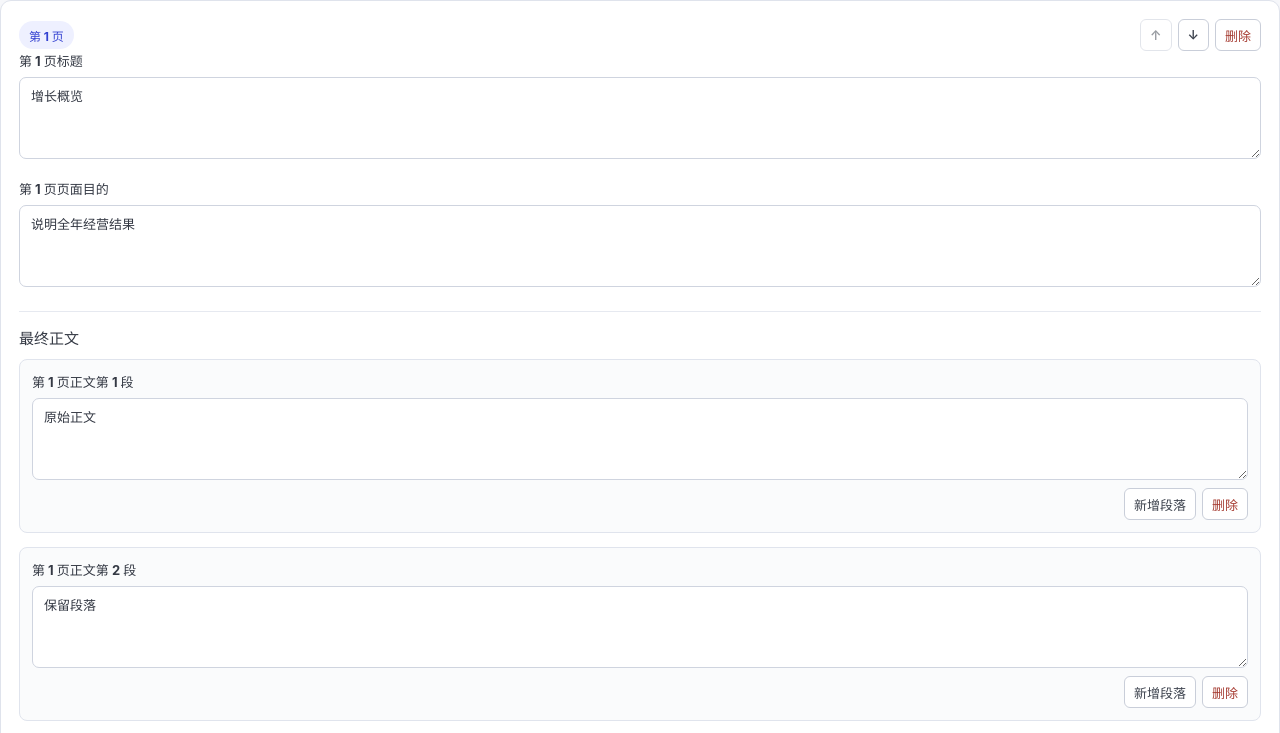
DetailEditor page management and index › moves complete ID-associated pages, keeps focus with the moved page, and confirms page deletion
What coordinates should you click on to do the following:
click the button named "下移第 1 页"
I would click on:
 (1193, 35)
Its box is [1178,19,1209,51].
(page scrolled)
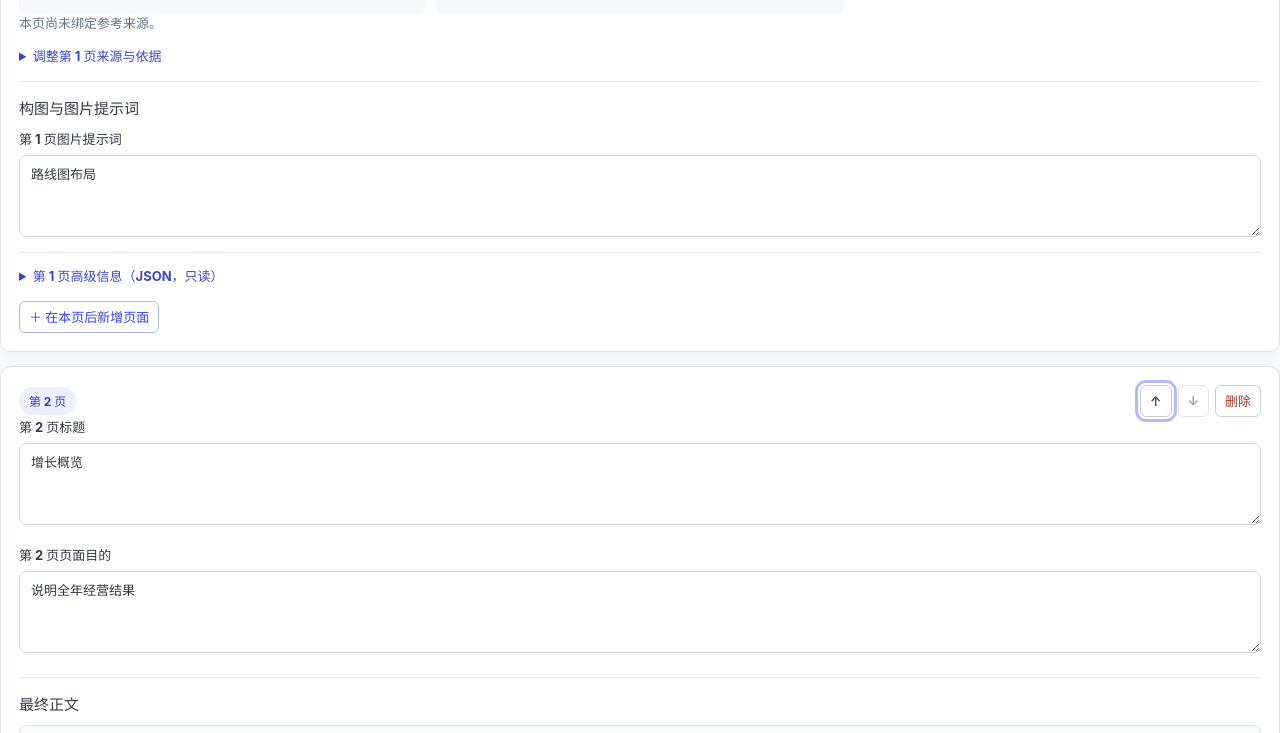
What coordinates should you click on to do the following:
click the button with aria-label "删除第 2 页"
I would click on:
 (1238, 400)
Its box is [1215,384,1261,416].
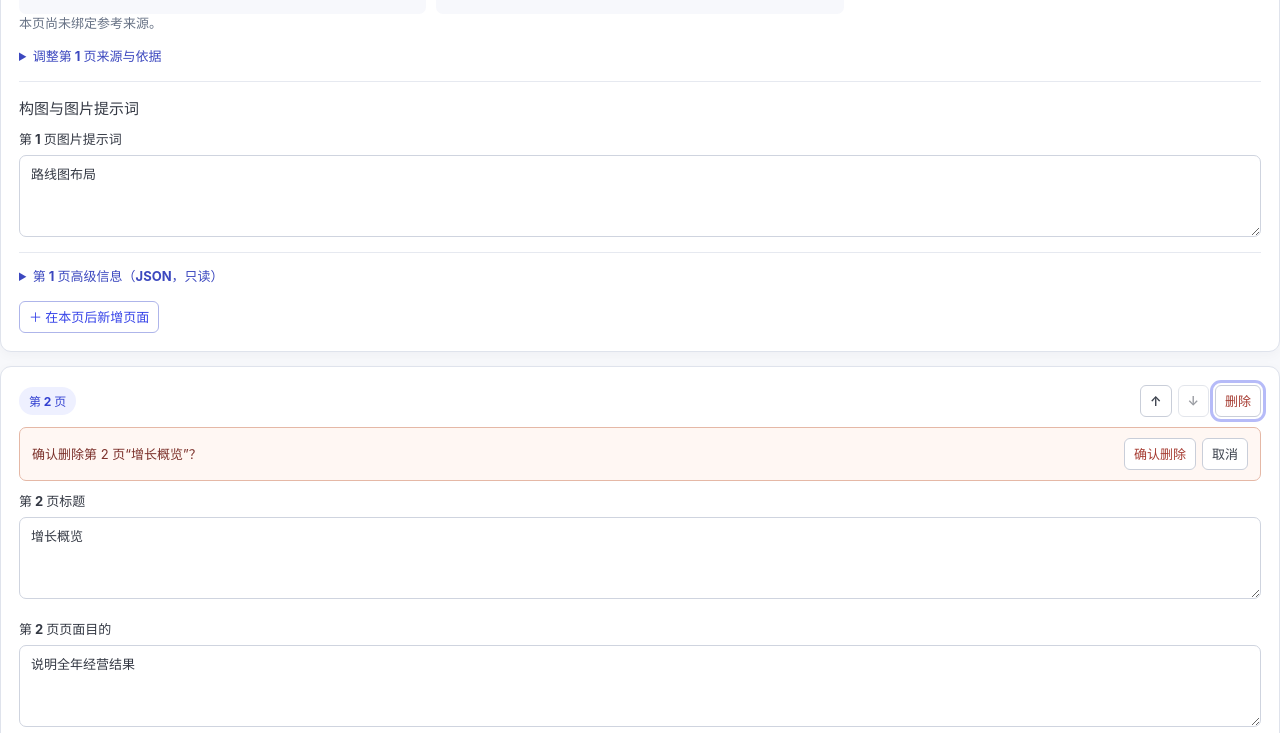
Check: the message shows "确认删除第 2 页“增长概览”", box [32,446,202,462]
What coordinates should you click on to do the following:
click the button with aria-label "确认删除第 2 页"
I would click on:
 (1160, 454)
Its box is [1124,438,1196,470].
(page scrolled)
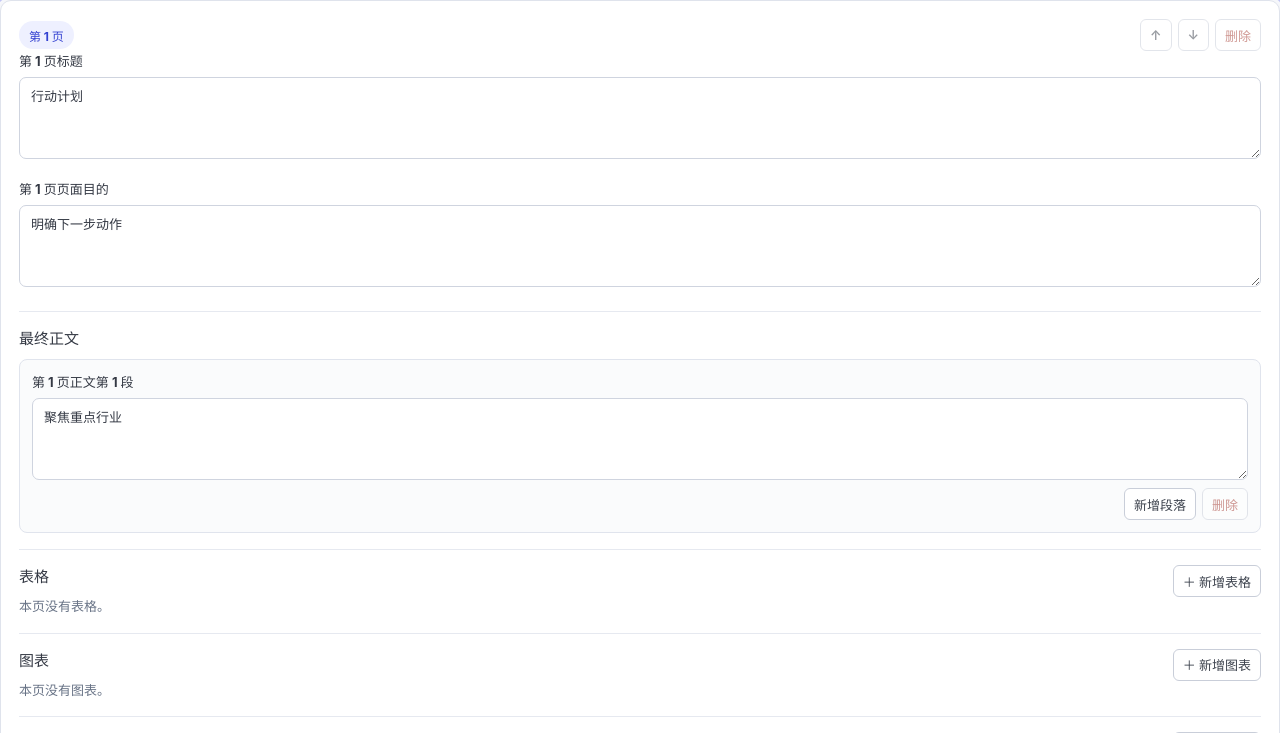
Check: the button with aria-label "删除第 1 页" is disabled, box [1215,19,1261,51]
